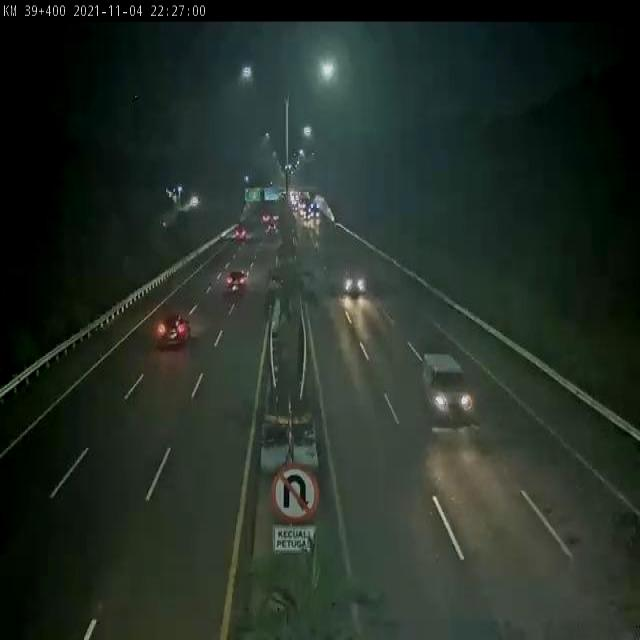Car: (156, 309, 190, 346), (224, 267, 248, 296)
Van: (421, 352, 475, 424)
